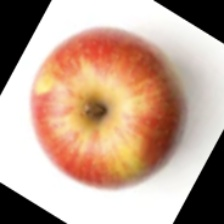apple: (8, 19, 175, 161)
